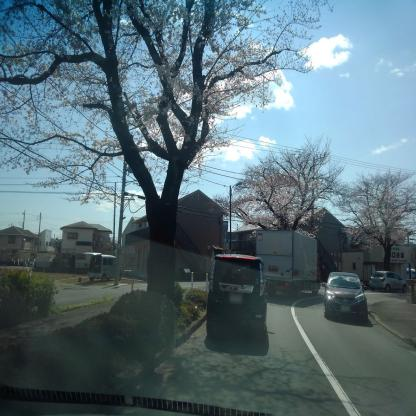Someiyoshino: (0, 0, 350, 223), (219, 129, 349, 238), (334, 167, 416, 250)
